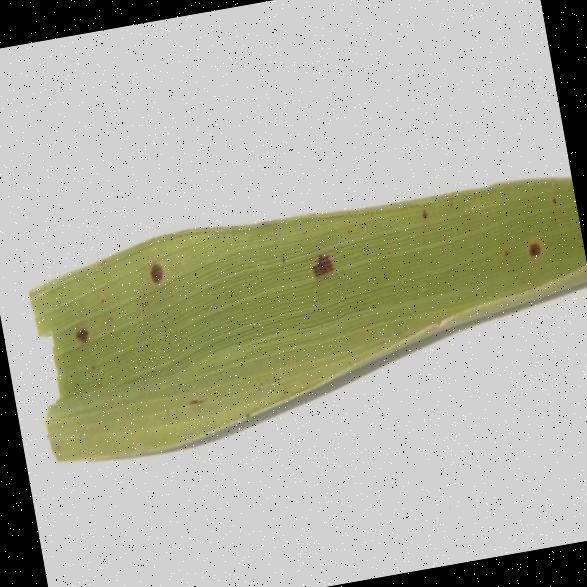Brown_Spot: (294, 224, 350, 287), (139, 248, 173, 286), (519, 217, 544, 266), (70, 316, 93, 354)
